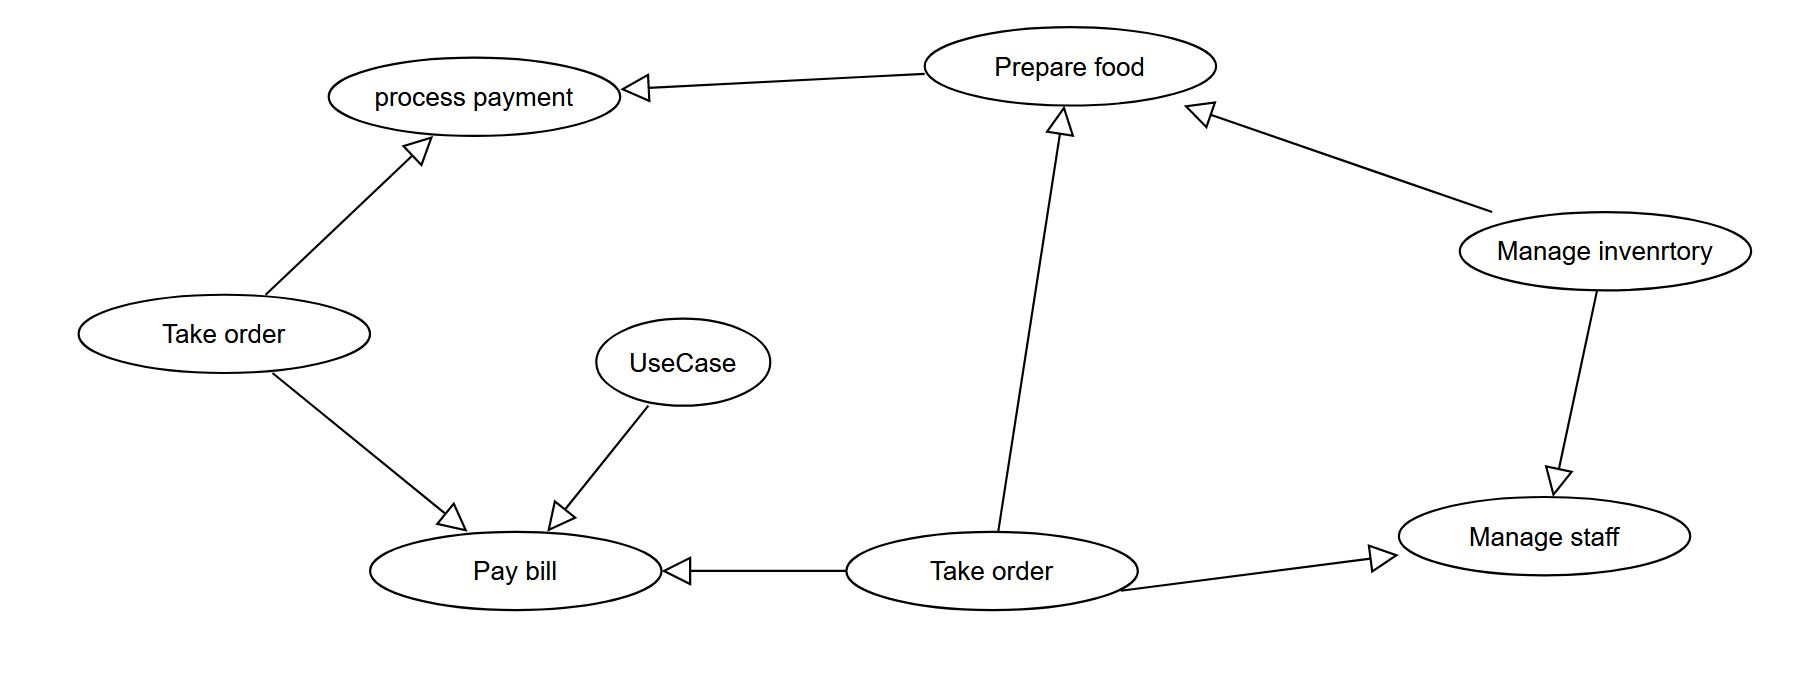generalization: (996, 104, 1080, 528), (1183, 102, 1490, 210), (271, 372, 466, 528), (268, 134, 433, 292), (618, 61, 928, 102), (550, 405, 650, 532), (1125, 545, 1397, 591), (1549, 291, 1597, 495), (661, 556, 846, 589)
text: (1491, 233, 1715, 275), (368, 84, 579, 117), (147, 315, 294, 353), (1457, 522, 1623, 555), (990, 48, 1150, 82), (926, 550, 1052, 589), (618, 344, 745, 382), (458, 551, 564, 591)
use_case: (75, 291, 371, 373), (1459, 210, 1753, 291), (1399, 495, 1693, 577), (927, 23, 1218, 102), (846, 531, 1137, 608), (368, 531, 662, 607), (325, 59, 618, 134), (595, 315, 770, 409)
